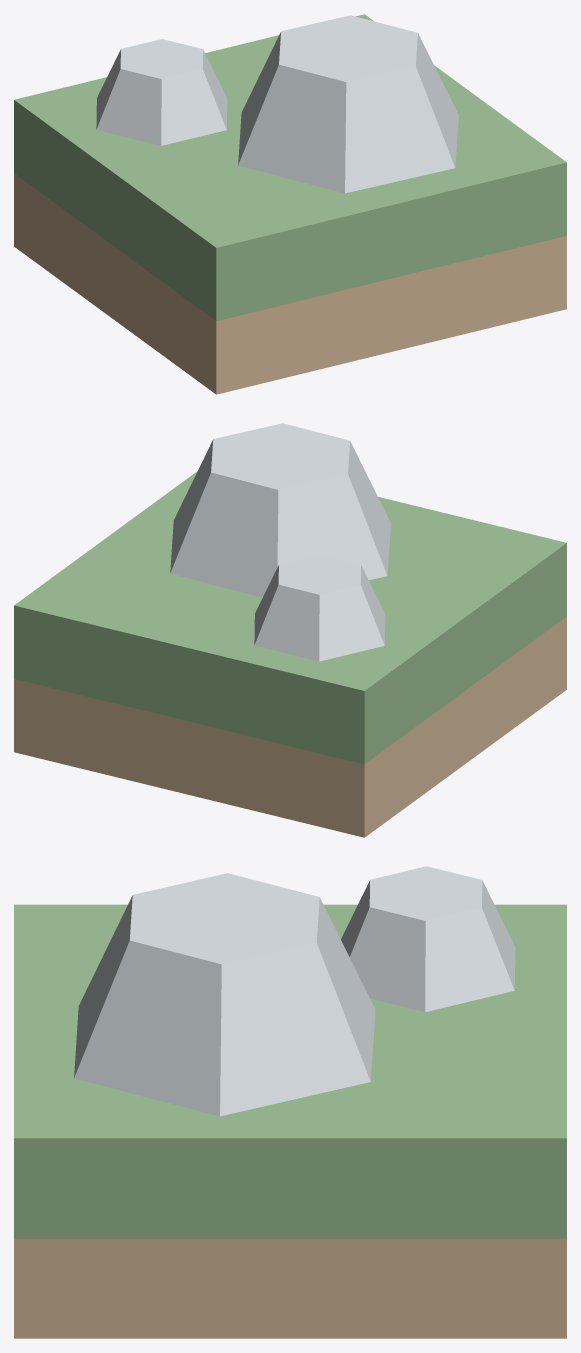
The model's file is tile_073.gltf.
3 renders of one model, top to bottom at view 1: azimuth 30°, elevation 25°; view 2: azimuth 150°, elevation 25°; view 3: azimuth 270°, elevation 25°, orthographic. The views are drawn at different scales.
Visible parts, largest first — view 1: tile_073, Group (×2); view 2: tile_073, Group (×2); view 3: tile_073, Group (×2).
Part boxes in pixels (left/top/right/bottom): tile_073: left=14, top=14, right=566, bottom=394; Group (×2): left=96, top=15, right=458, bottom=193; tile_073: left=14, top=471, right=566, bottom=837; Group (×2): left=170, top=423, right=390, bottom=661; tile_073: left=14, top=904, right=566, bottom=1338; Group (×2): left=74, top=866, right=515, bottom=1116.
Size of the model in its own units: 1 by 0.65 by 1.
